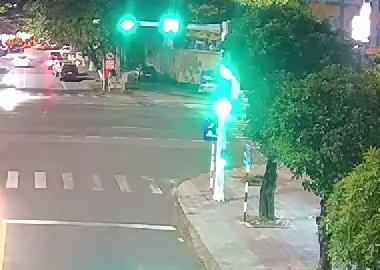green_light: (214, 84, 233, 117), (160, 13, 181, 38), (117, 16, 138, 34)
stop_line: (3, 219, 175, 230)
